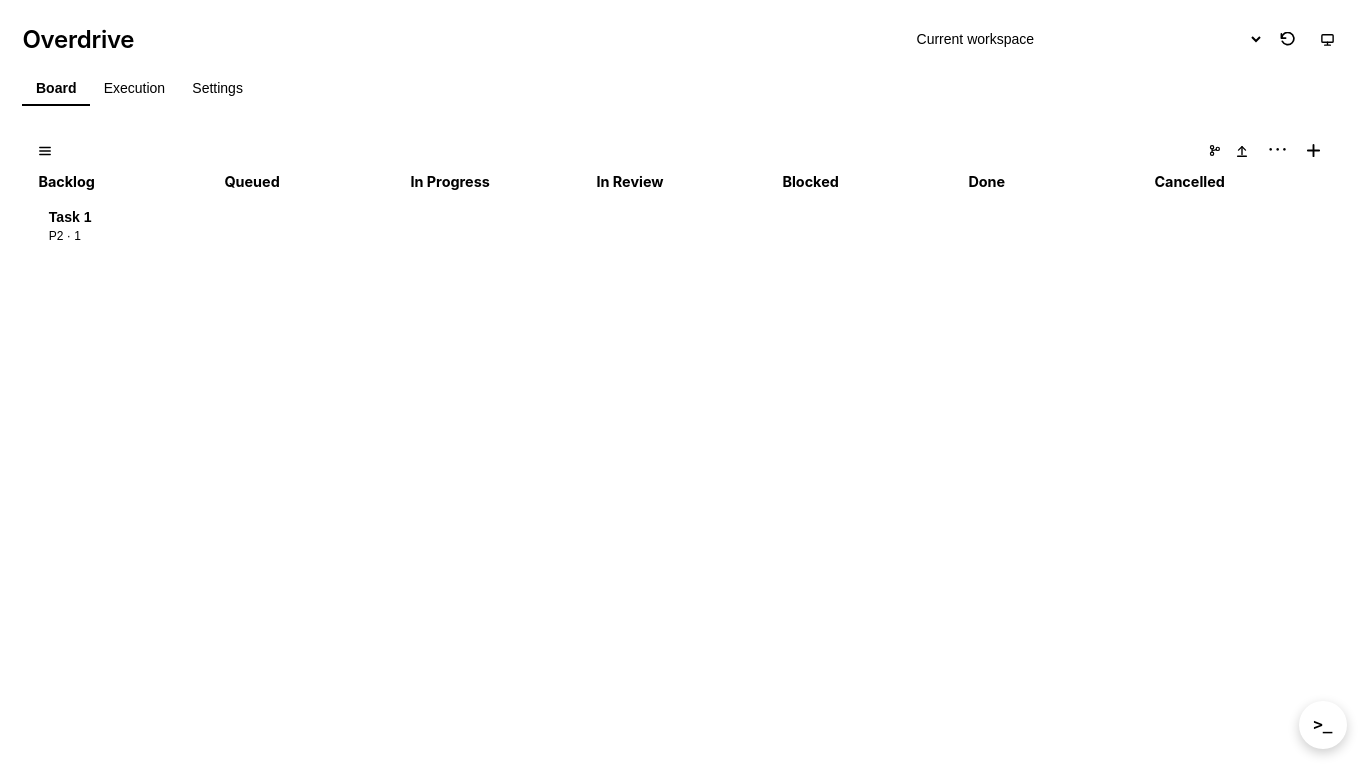
Test: App default route › opens task detail modal when clicking a kanban card
Click the text "Task 1" at (70, 217), box [49,209,92,225]
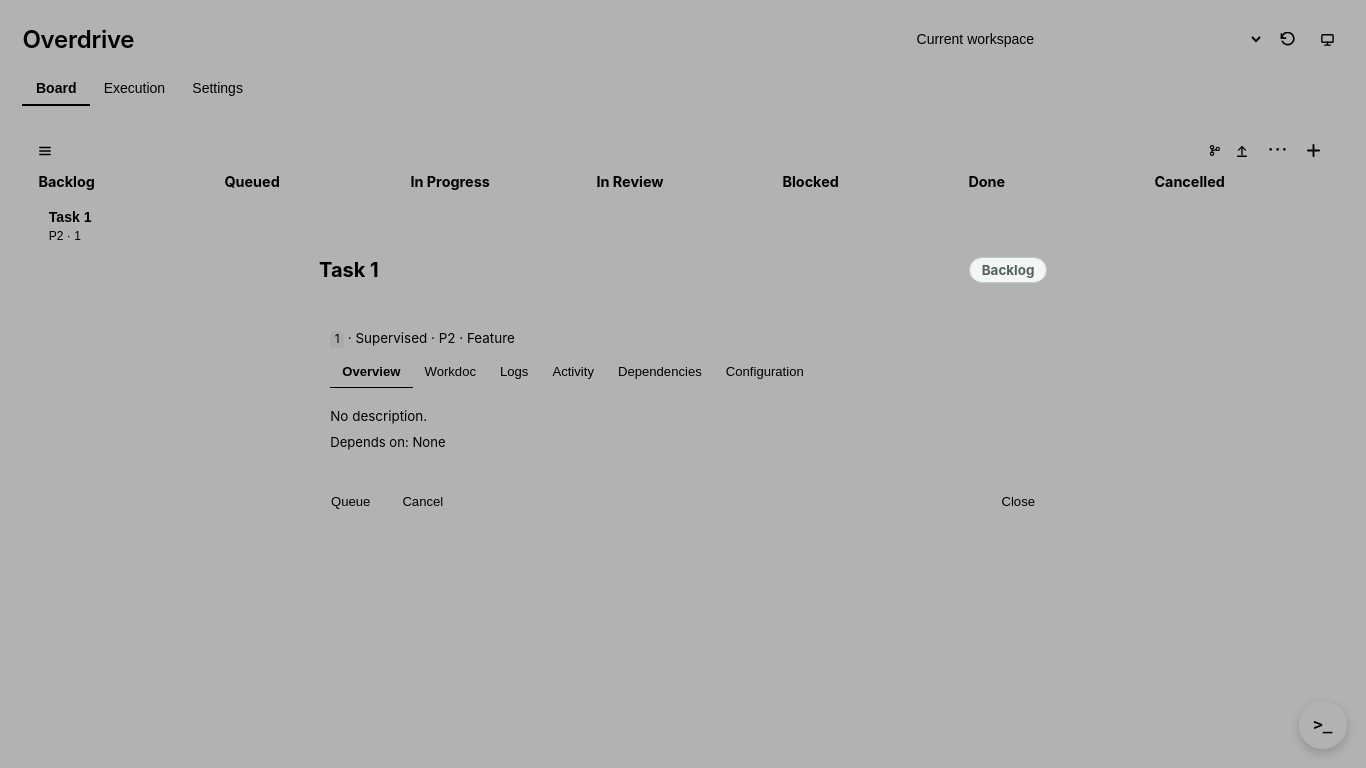
Result: the dialog named "Task detail" is shown
Result: the button "Queue" is shown at [319,488,382,516]
